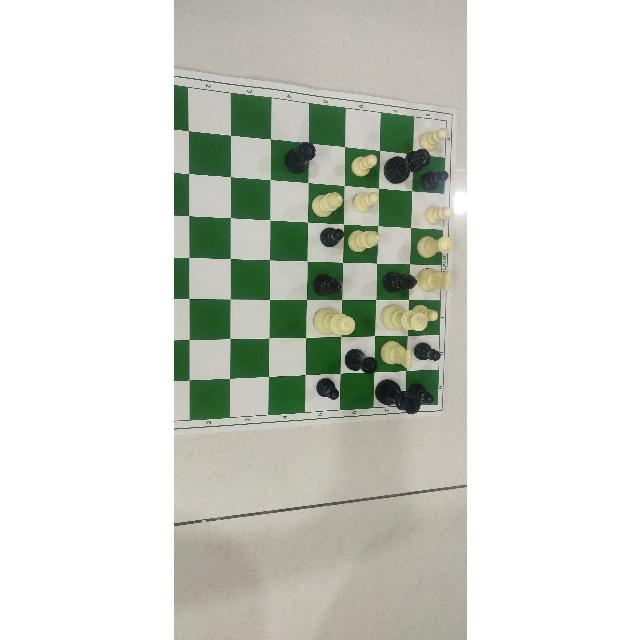black-bishop: (381, 268, 417, 292), (312, 270, 344, 297)
black-king: (374, 379, 420, 415)
black-pawn: (316, 224, 346, 251), (311, 377, 339, 399), (406, 383, 433, 405), (415, 339, 441, 361), (421, 171, 449, 191)
black-queen: (378, 149, 431, 185)
black-rook: (281, 141, 316, 175), (342, 344, 377, 374)
white-bishop: (345, 228, 388, 256), (311, 189, 343, 221)
white-king: (376, 305, 429, 333)
white-knight: (377, 336, 413, 372), (416, 269, 451, 295)
white-pawn: (346, 152, 380, 180), (353, 190, 383, 214), (419, 127, 450, 150), (424, 202, 455, 224), (411, 305, 439, 323)
white-queen: (308, 306, 358, 338)
white-rook: (414, 234, 458, 258)
